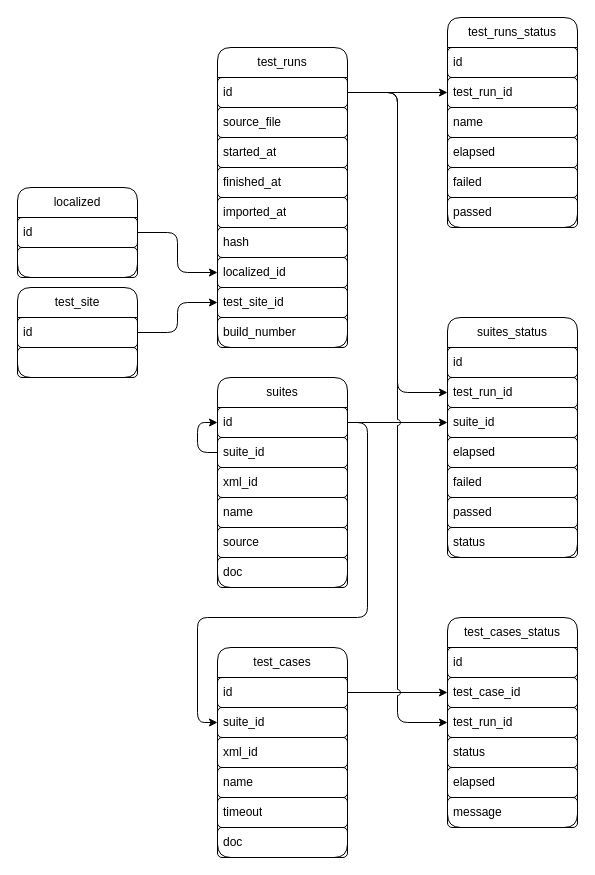
This 595x875 diagram has some shape labels left out. The centre of each missing label's shape, as x and y in pixels:
"country_code" goes at pixel 77 262.
"label" goes at pixel 77 362.
